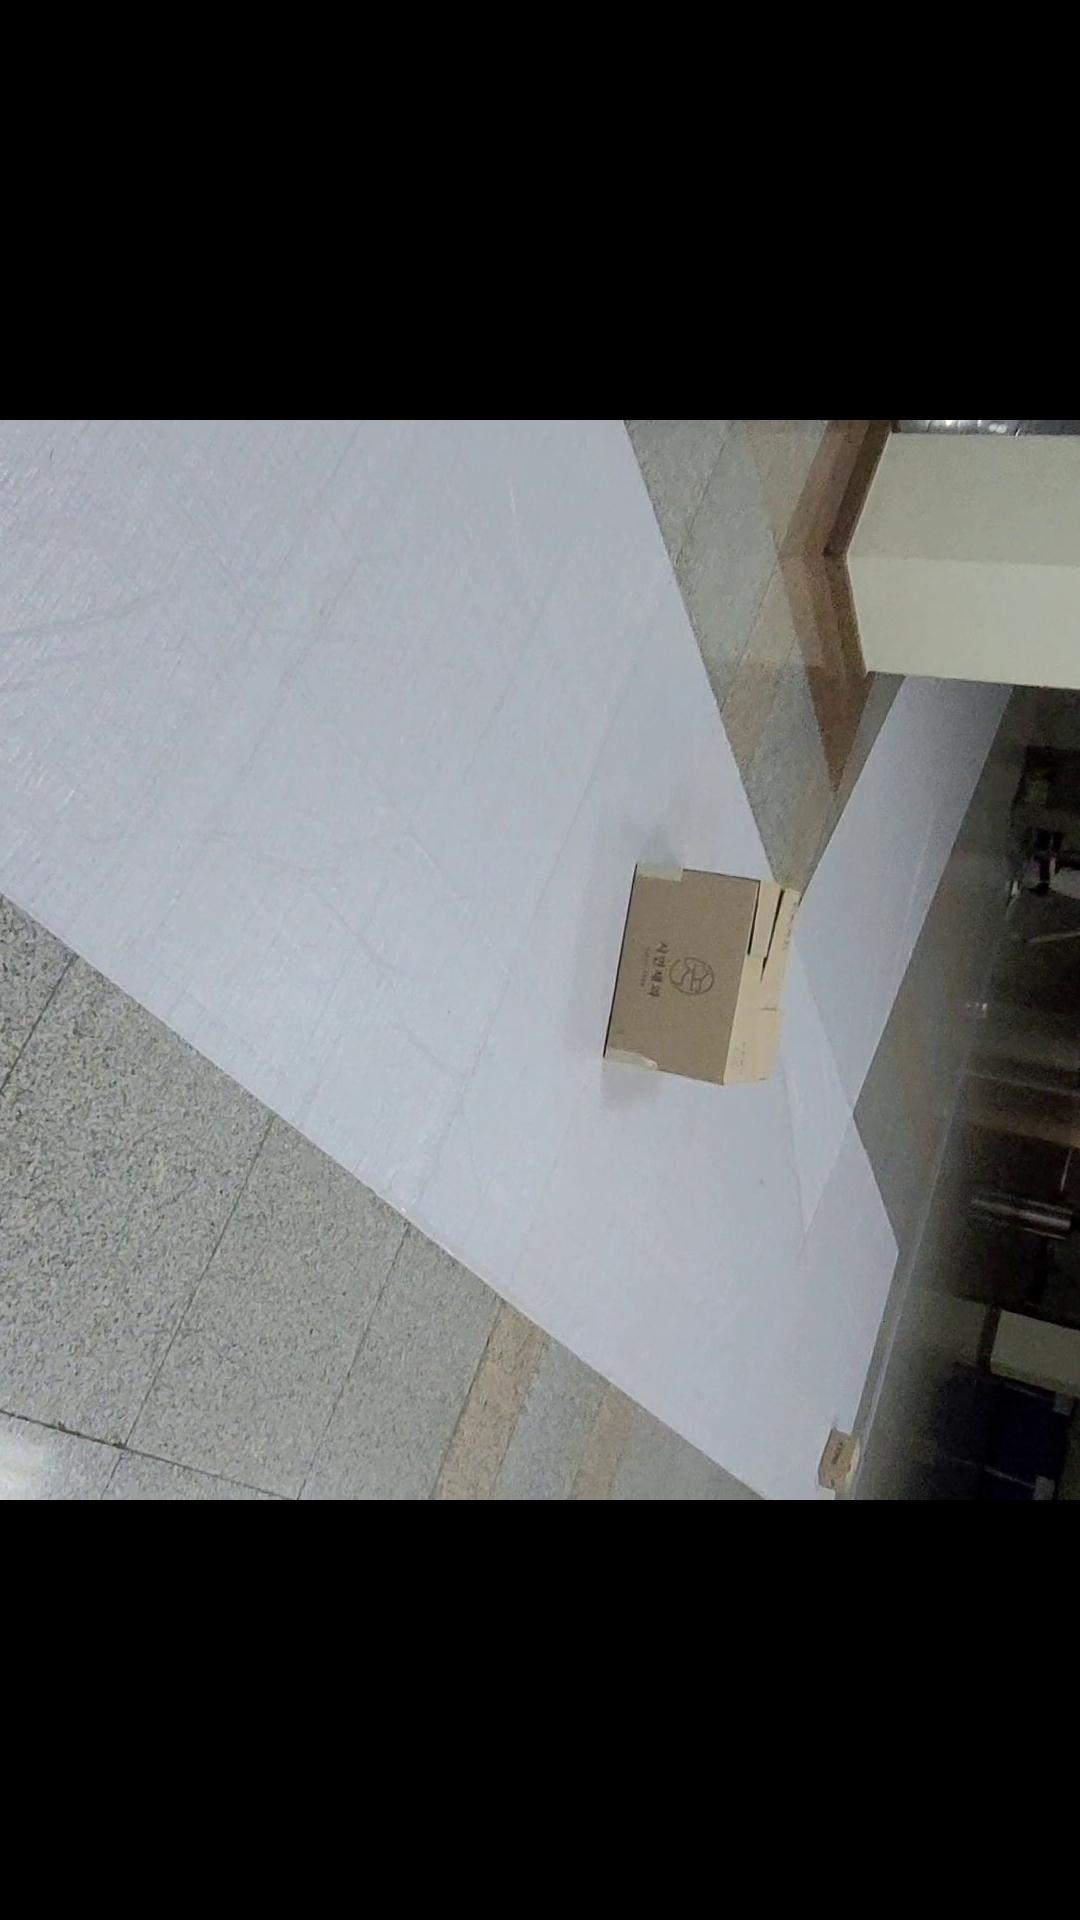Box: (600, 853, 812, 1097), (804, 1414, 872, 1497)
